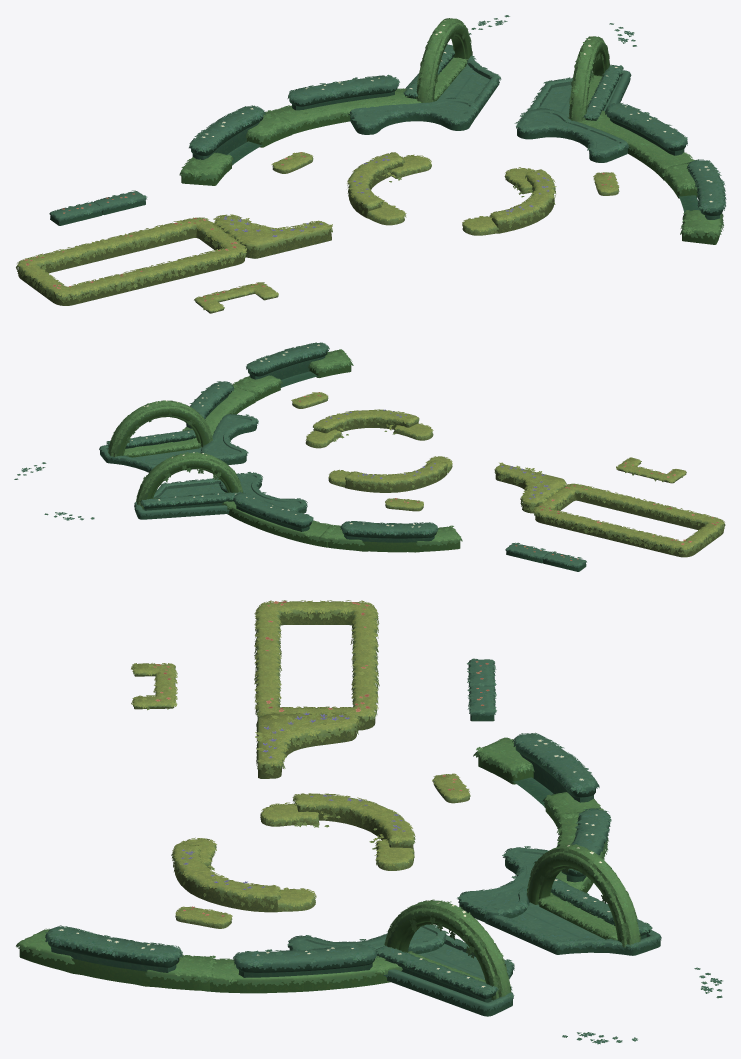
File: pref_sm_garden_bush_vertexcolor_01_lv2.fbx
3 views of the same model, one above another, from view 1: azimuth 30°, elevation 25°; view 2: azimuth 150°, elevation 25°; view 3: azimuth 270°, elevation 25° (orthographic). The views are drawn at different scales.
Visible parts, largest first — view 1: pref_sm_garden_bush_vertexcolor_01_lv2; view 2: pref_sm_garden_bush_vertexcolor_01_lv2; view 3: pref_sm_garden_bush_vertexcolor_01_lv2.
Part boxes in pixels (x1,y1,x2,y2): pref_sm_garden_bush_vertexcolor_01_lv2: (16, 15, 726, 313); pref_sm_garden_bush_vertexcolor_01_lv2: (14, 342, 725, 571); pref_sm_garden_bush_vertexcolor_01_lv2: (16, 600, 722, 1044).
Size of the model in its own units: 72.79 by 6.46 by 50.76.
Materials: 1 (1 with a texture image).
